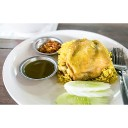briyani: (59, 40, 113, 79)
